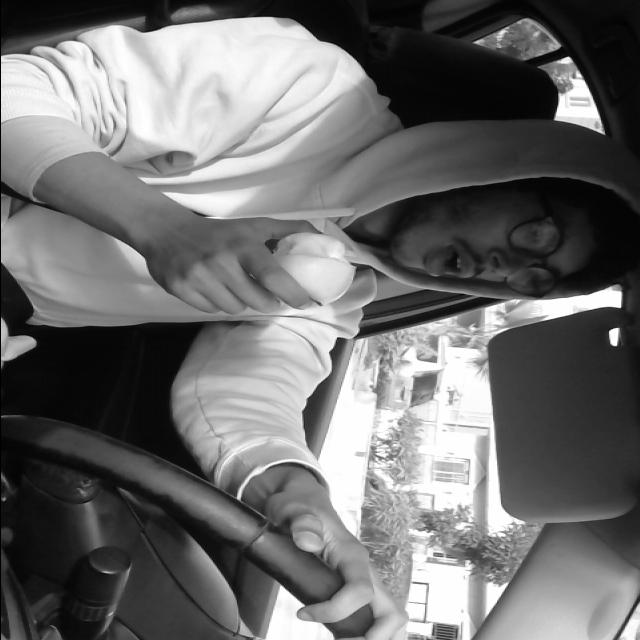eating: (264, 226, 364, 310)
